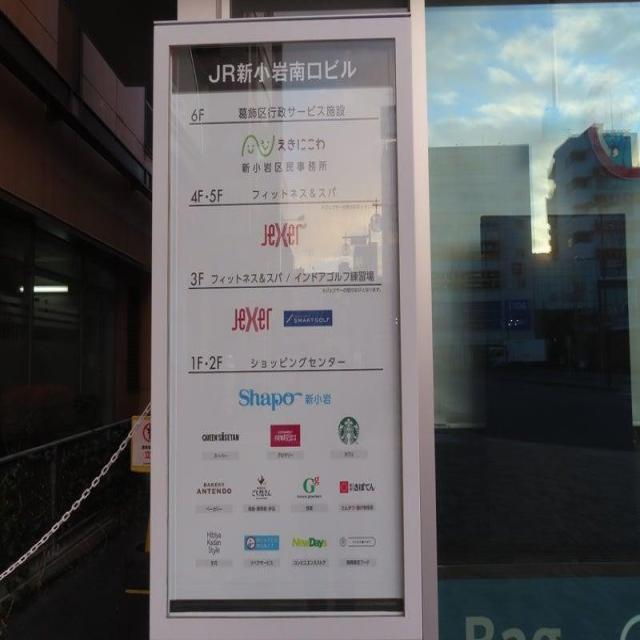building: (206, 54, 360, 87)
facility: (235, 126, 337, 180), (235, 385, 337, 412), (254, 217, 307, 253), (280, 303, 336, 334), (228, 300, 276, 336), (240, 527, 282, 556), (199, 422, 243, 448), (193, 475, 235, 501), (266, 421, 304, 449), (334, 414, 363, 449), (336, 475, 379, 498), (289, 531, 331, 554), (247, 470, 276, 503), (294, 471, 325, 501), (337, 530, 380, 550), (201, 525, 227, 556)
floor: (190, 106, 207, 123), (189, 268, 206, 285), (209, 352, 224, 370), (189, 187, 204, 203), (209, 187, 224, 203), (190, 352, 204, 369)
